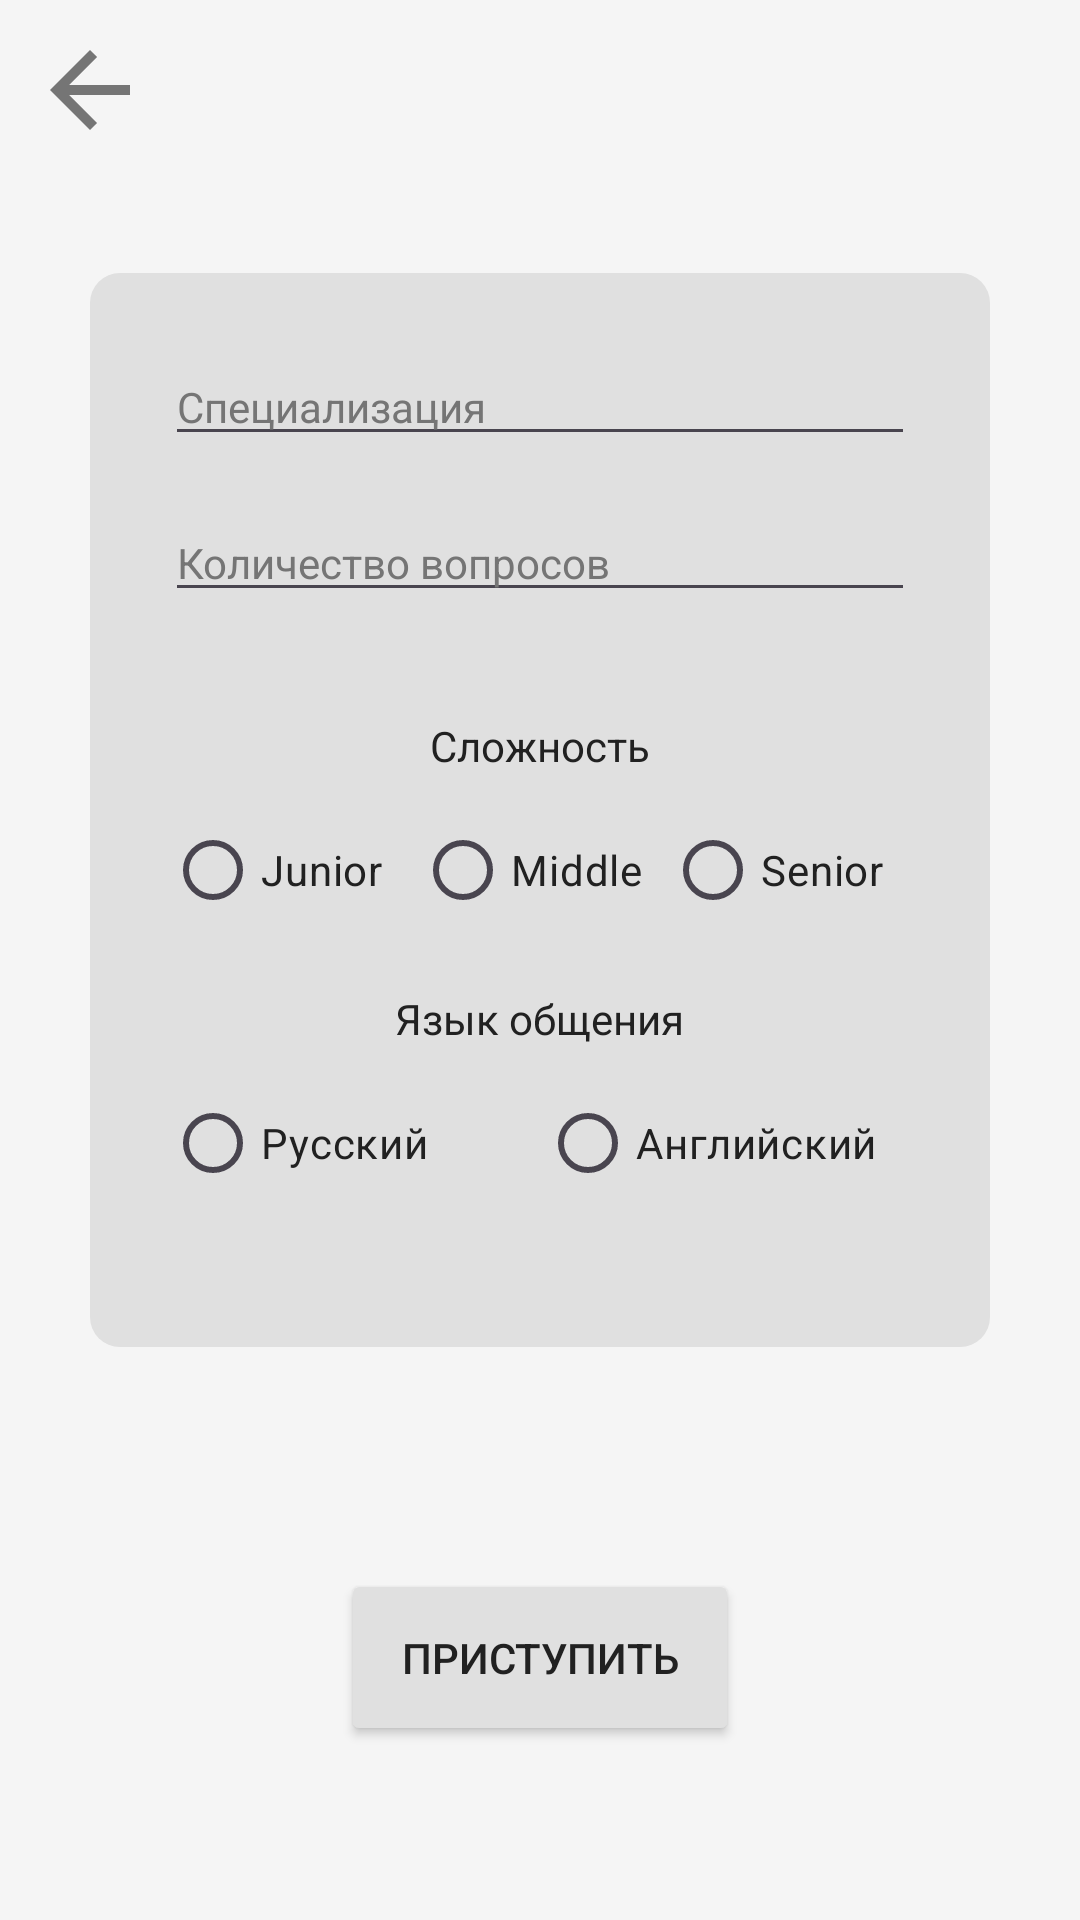

Icon bounding boxes for this 1080x1920 phone screenshot, format [x1=x1, y1=y1, x2=x2, y2=y2]:
arrow back: [x1=50, y1=50, x2=130, y2=130]
